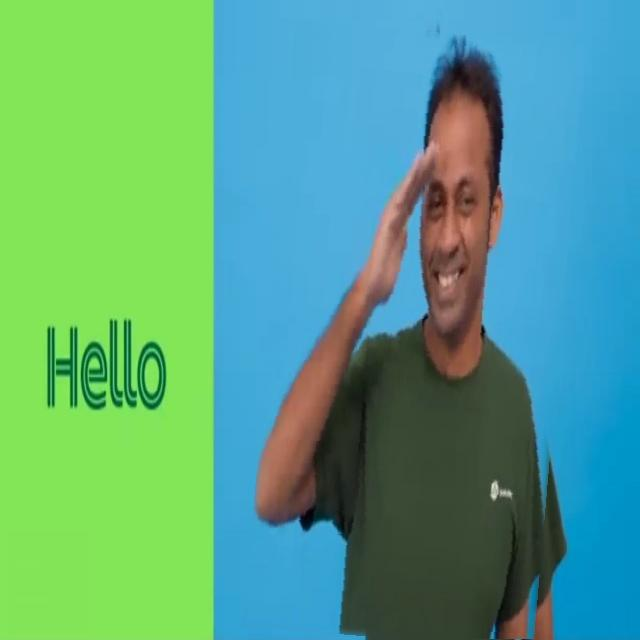Hello: (256, 26, 572, 640)
